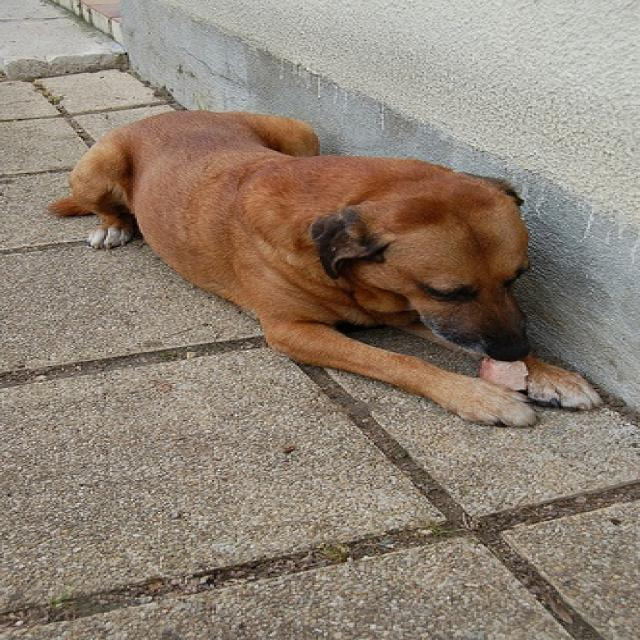dog: (50, 100, 613, 439)
